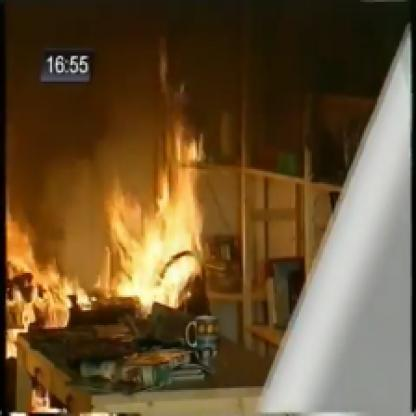fire: (98, 89, 222, 308), (0, 227, 87, 358), (15, 375, 71, 416)
